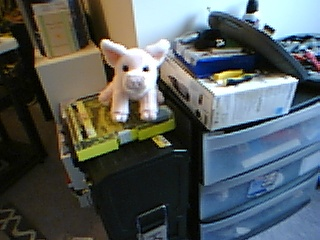piggy: (97, 36, 172, 123)
